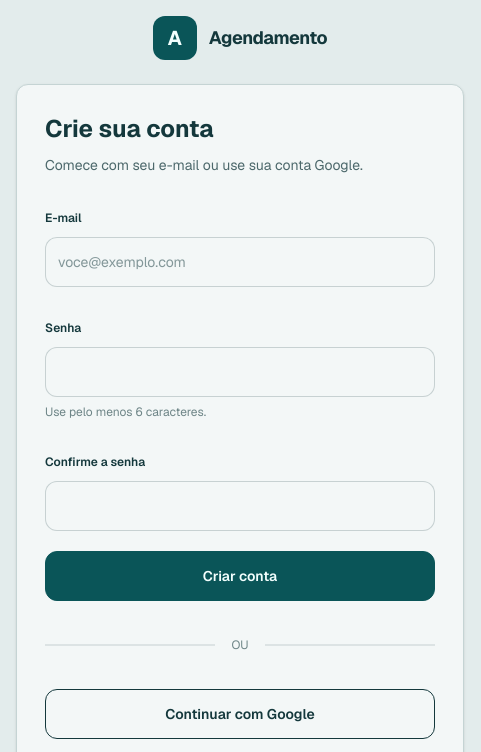
it: RegisterScreen › shows a neutral confirmation state when email verification is needed
Type "prestador@salao.com" into the field labelled "E-mail".
click(240, 262); type("prestador@salao.com")  # box [45,237,435,287]
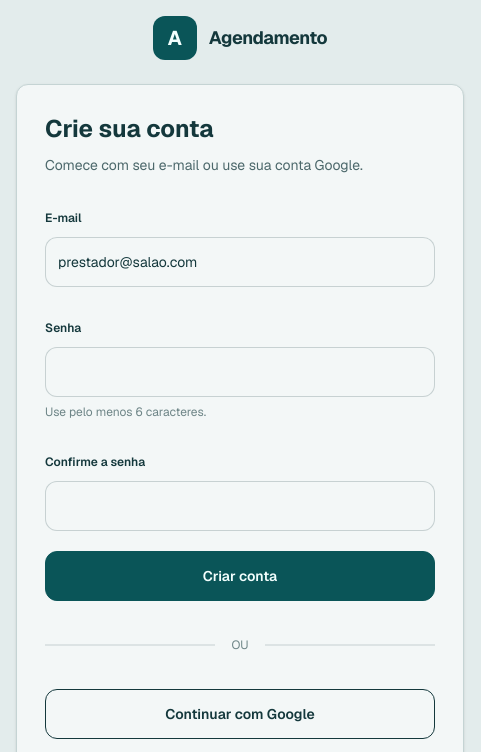
Type "segredo-forte" into the password field labelled "Senha".
click(240, 372); type("segredo-forte")  # box [45,347,435,397]
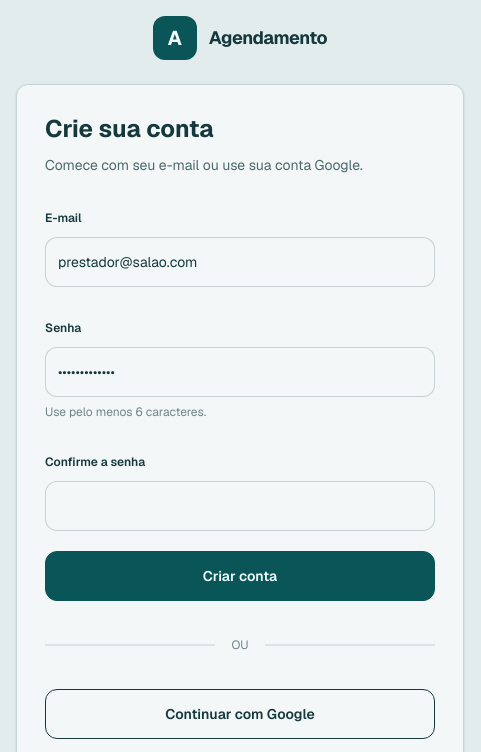
Type "segredo-forte" into the password field labelled "Confirme a senha".
click(240, 506); type("segredo-forte")  # box [45,481,435,531]
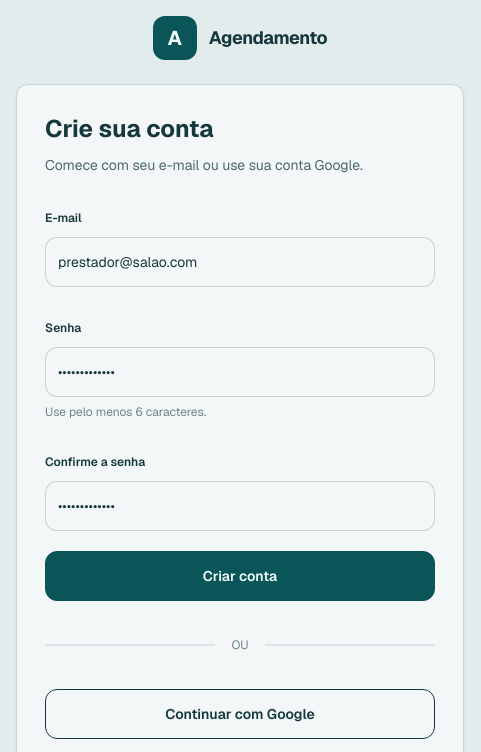
Click the button "Criar conta".
click(240, 576)  # box [45,551,435,601]
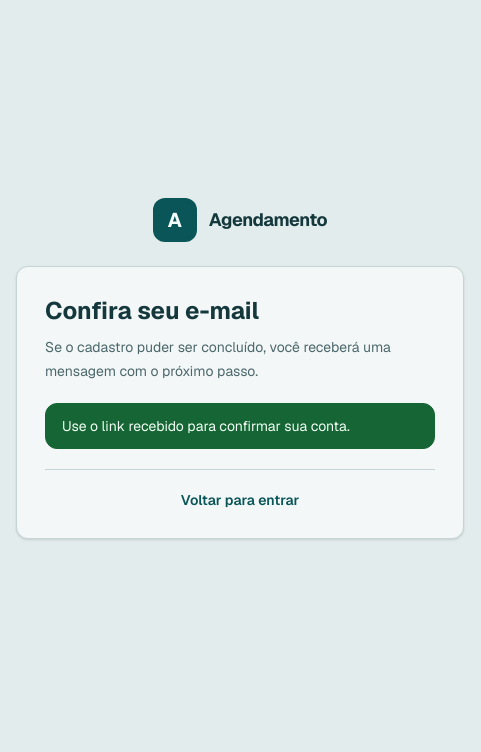
Check: the heading "Confira seu e-mail" is shown, box [45,294,259,326]
Check: the message reads "Use o link recebido para confirmar sua conta.", box [62,416,350,434]
